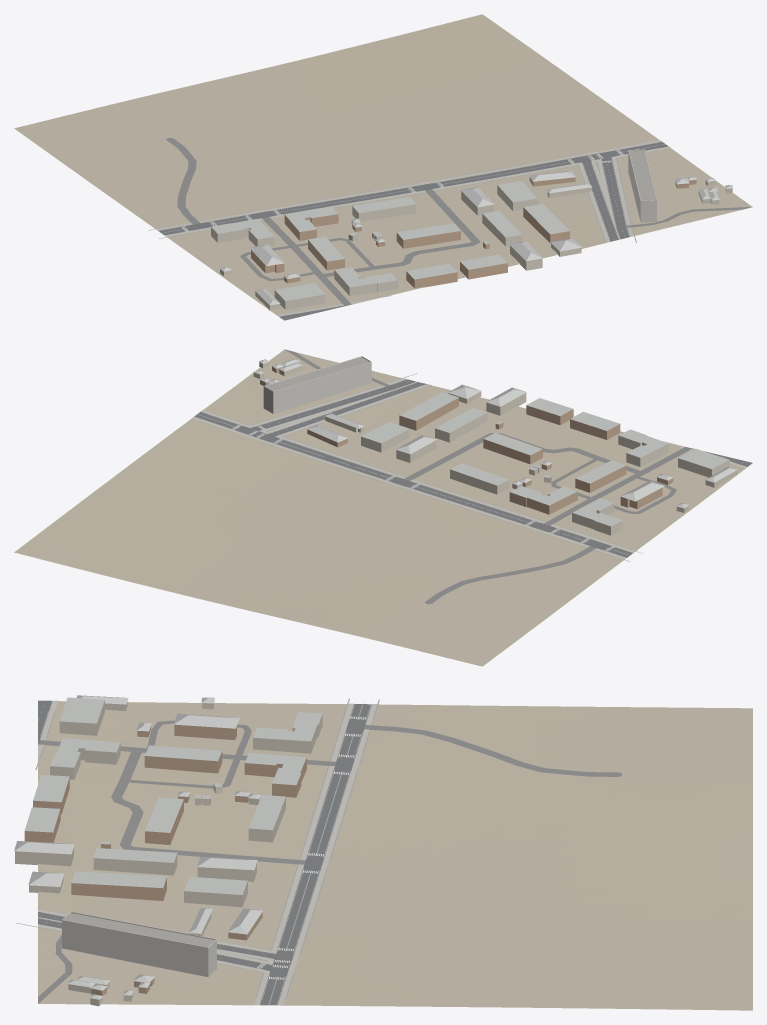
File: bolak_-27_-6.glb
3 renders of one model, top to bottom at view 1: azimuth 30°, elevation 25°; view 2: azimuth 150°, elevation 25°; view 3: azimuth 270°, elevation 25°, orthographic. The views are drawn at different scales.
Parts seen in each view (by area): view 1: Yer_Tuproq-col, Tom_Shifer, Yol_Asfalt-col, Devor_Suvoq-col, Devor_Gisht-col, Yol_Mahalla-col, Trotuar, Ariq, Tom_Tekis, Devor_Panel-col, Yol_Chiziq; view 2: Yer_Tuproq-col, Tom_Shifer, Yol_Asfalt-col, Devor_Suvoq-col, Devor_Gisht-col, Trotuar, Yol_Mahalla-col, Devor_Panel-col, Ariq, Tom_Tekis; view 3: Yer_Tuproq-col, Tom_Shifer, Devor_Suvoq-col, Yol_Asfalt-col, Devor_Gisht-col, Yol_Mahalla-col, Devor_Panel-col, Trotuar, Ariq, Tom_Tekis, Yol_Chiziq.
Part boxes in pixels (left/top/right/bottom): Yer_Tuproq-col: left=14, top=14, right=752, bottom=320; Tom_Shifer: left=211, top=171, right=732, bottom=305; Yol_Asfalt-col: left=158, top=142, right=668, bottom=320; Devor_Suvoq-col: left=211, top=180, right=732, bottom=310; Devor_Gisht-col: left=251, top=177, right=696, bottom=288; Yol_Mahalla-col: left=166, top=138, right=751, bottom=305; Trotuar: left=156, top=140, right=670, bottom=316; Ariq: left=148, top=142, right=658, bottom=311; Tom_Tekis: left=629, top=150, right=656, bottom=200; Devor_Panel-col: left=628, top=149, right=656, bottom=222; Yol_Chiziq: left=153, top=142, right=664, bottom=313; Yer_Tuproq-col: left=14, top=349, right=746, bottom=666; Tom_Shifer: left=253, top=358, right=737, bottom=526; Yol_Asfalt-col: left=194, top=379, right=752, bottom=557; Devor_Suvoq-col: left=253, top=362, right=737, bottom=535; Devor_Gisht-col: left=260, top=366, right=673, bottom=514; Trotuar: left=192, top=378, right=746, bottom=559; Yol_Mahalla-col: left=284, top=349, right=690, bottom=604; Devor_Panel-col: left=263, top=356, right=371, bottom=413; Ariq: left=200, top=373, right=680, bottom=561; Tom_Tekis: left=265, top=357, right=369, bottom=391; Yer_Tuproq-col: left=38, top=701, right=752, bottom=1010; Tom_Shifer: left=14, top=695, right=322, bottom=999; Devor_Suvoq-col: left=15, top=700, right=322, bottom=1006; Yol_Asfalt-col: left=38, top=700, right=371, bottom=1005; Devor_Gisht-col: left=24, top=724, right=306, bottom=995; Yol_Mahalla-col: left=38, top=720, right=622, bottom=1003; Devor_Panel-col: left=62, top=911, right=216, bottom=976; Trotuar: left=38, top=700, right=377, bottom=1004; Ariq: left=16, top=698, right=379, bottom=998; Tom_Tekis: left=64, top=913, right=214, bottom=947; Yol_Chiziq: left=25, top=699, right=372, bottom=1004.
Size of what is drawn, in the model's own units: 410 by 22.46 by 413.
